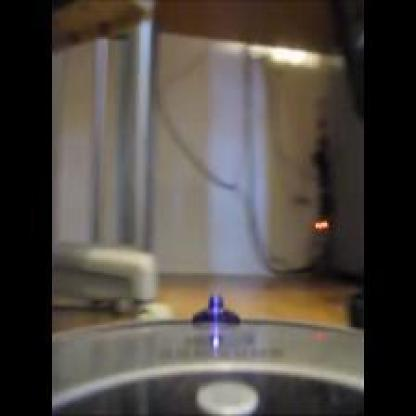other: (286, 202, 339, 239)
